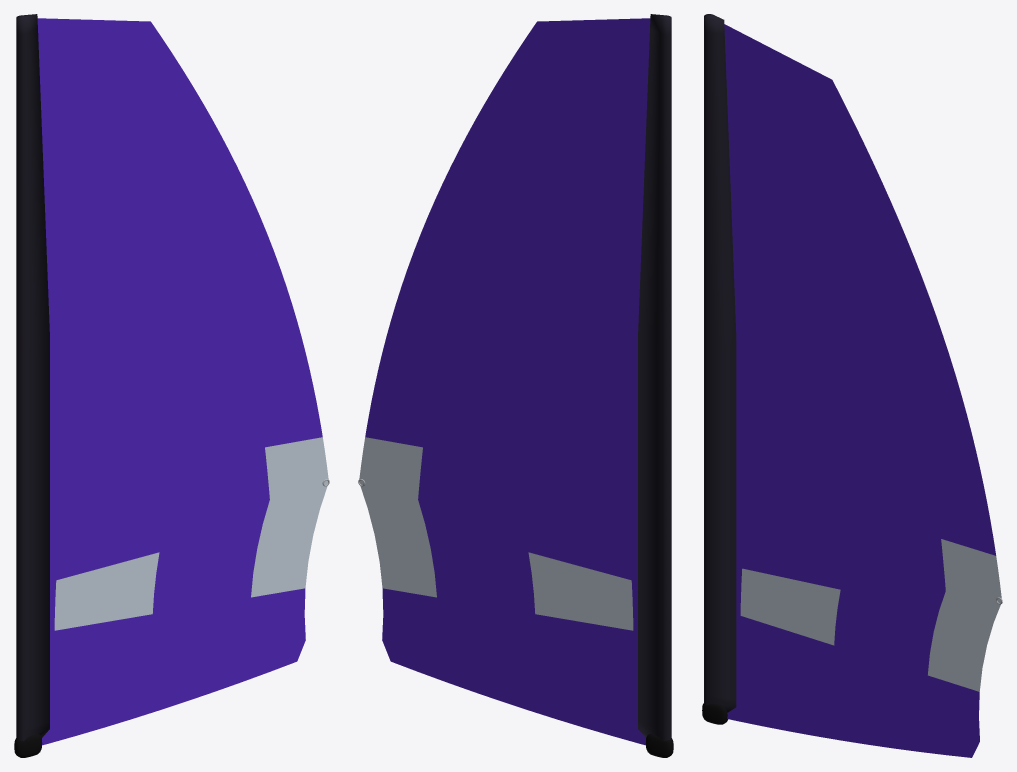
The model's file is gg_sails_slalom_8_4.glb.
3 views of the same model, side by side, from view 1: azimuth 30°, elevation 25°; view 2: azimuth 150°, elevation 25°; view 3: azimuth 330°, elevation 25° (orthographic). The views are drawn at different scales.
Visible parts, largest first — view 1: SailCloth; view 2: SailCloth; view 3: SailCloth.
Boxes of the visible parts, box(x1,y1,x2,y2) form: SailCloth: box(16, 14, 328, 745); SailCloth: box(359, 14, 671, 745); SailCloth: box(704, 14, 1001, 757).
Size of the model in its own units: 2.22 by 5.01 by 0.08.
